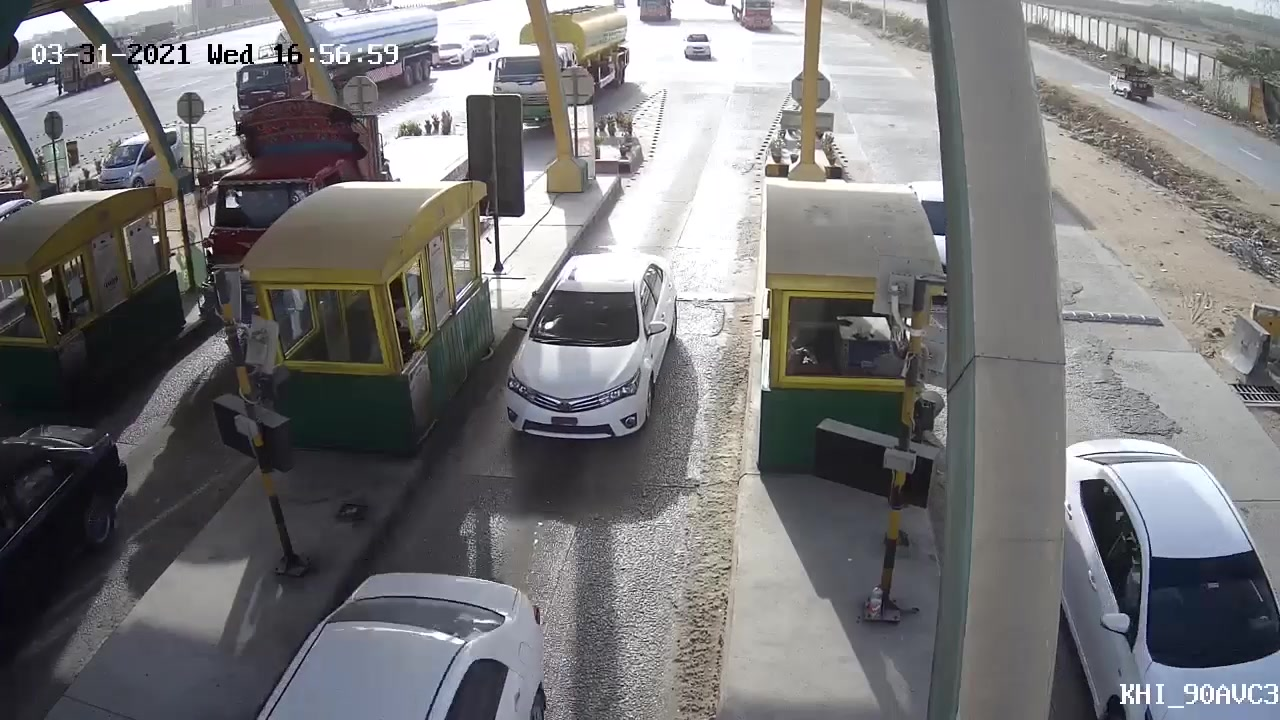F1: (492, 251, 676, 451)
